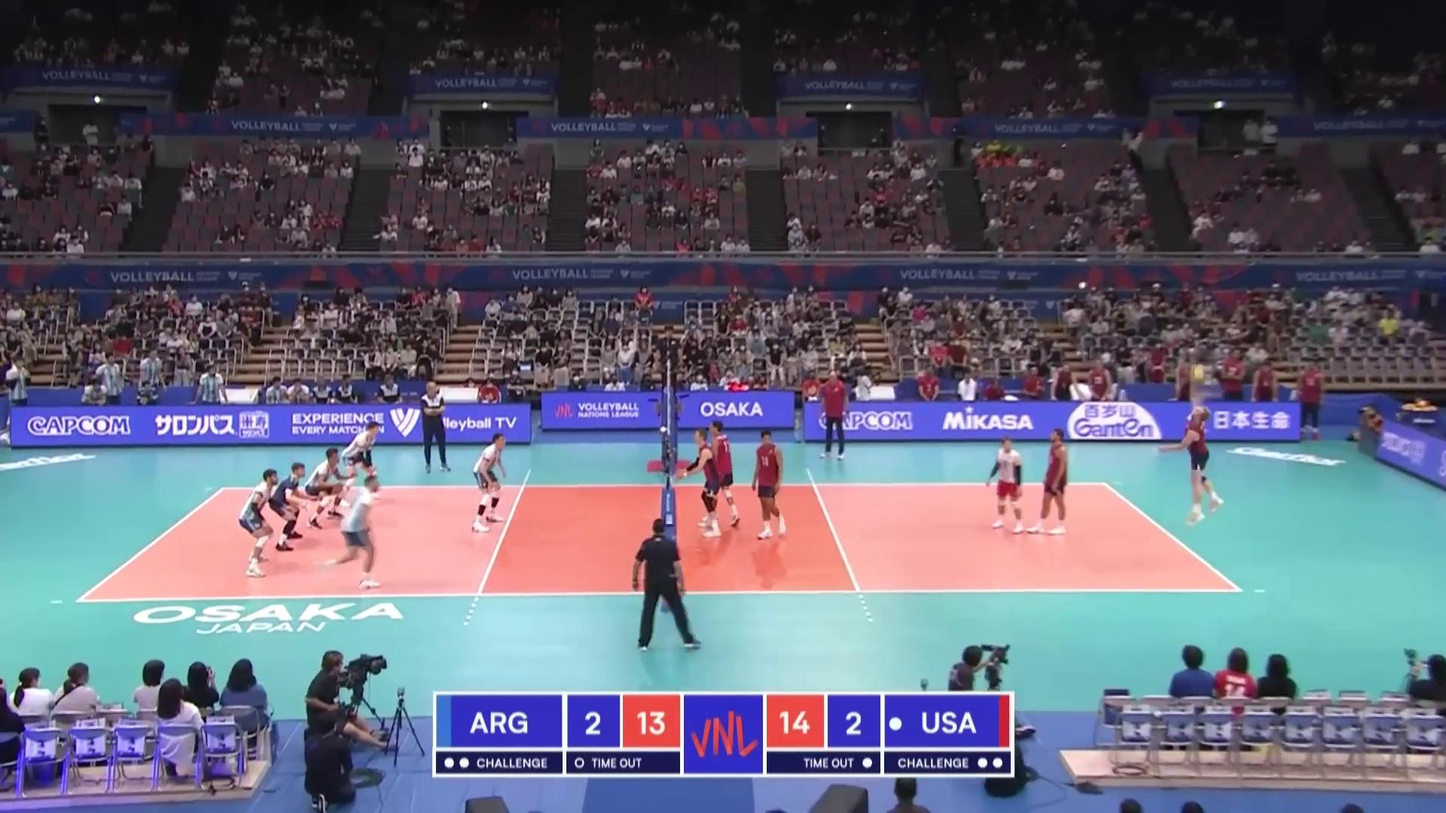player: (1163, 405, 1226, 525), (319, 475, 380, 589), (679, 429, 723, 542), (1029, 429, 1069, 536), (239, 469, 277, 580), (700, 420, 739, 528), (750, 430, 786, 542), (337, 421, 380, 508), (986, 436, 1024, 534), (266, 462, 306, 554), (472, 432, 507, 531), (303, 449, 347, 526)
refree: (632, 520, 701, 653), (655, 323, 681, 413)
